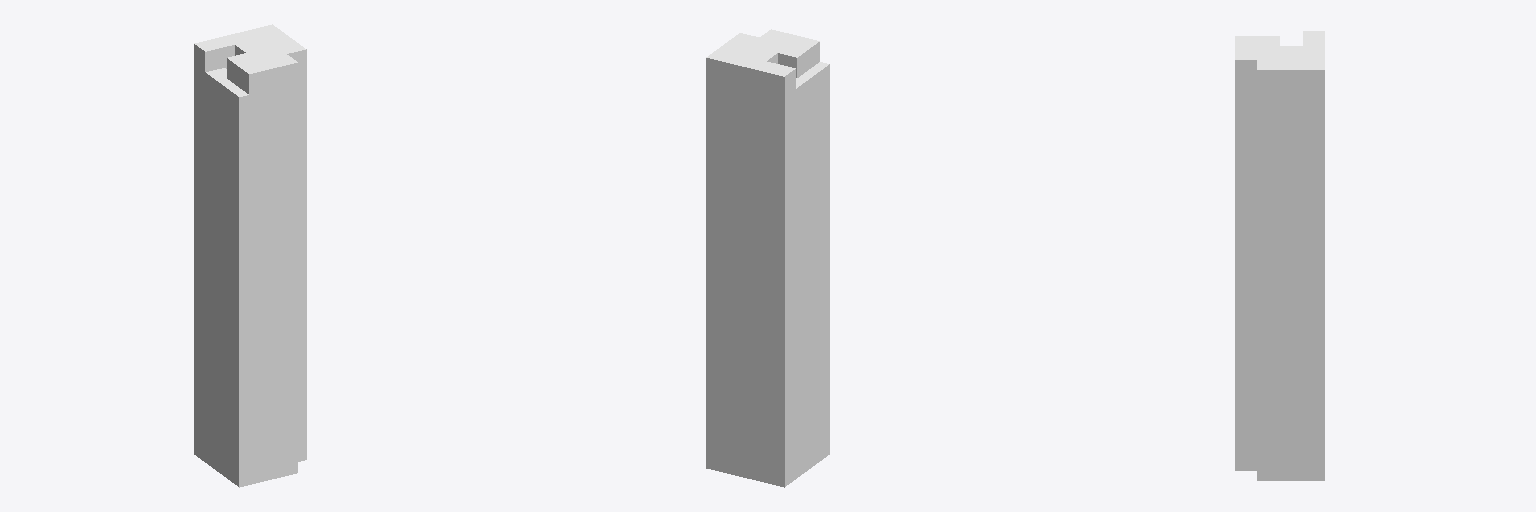
Rendered from upper_leg.obj.
3 views of the same model, side by side, from view 1: azimuth 30°, elevation 25°; view 2: azimuth 150°, elevation 25°; view 3: azimuth 270°, elevation 25° (orthographic).
Size of the model in its own units: 8 by 40 by 8.